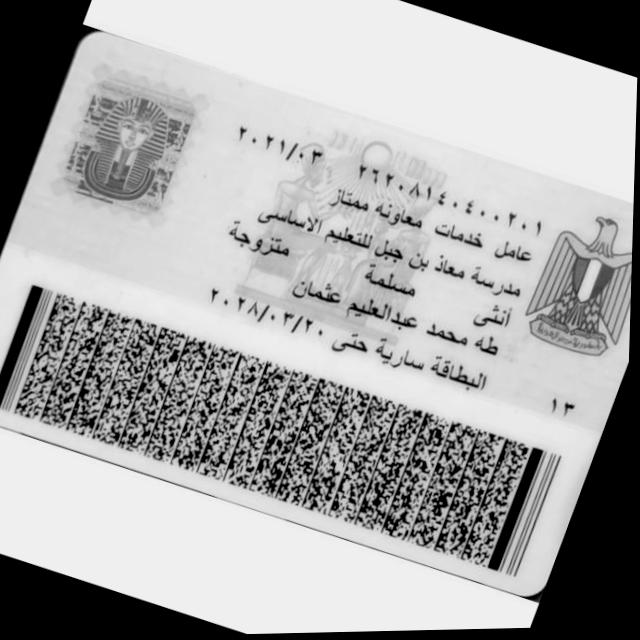id_card: (0, 33, 633, 592)
